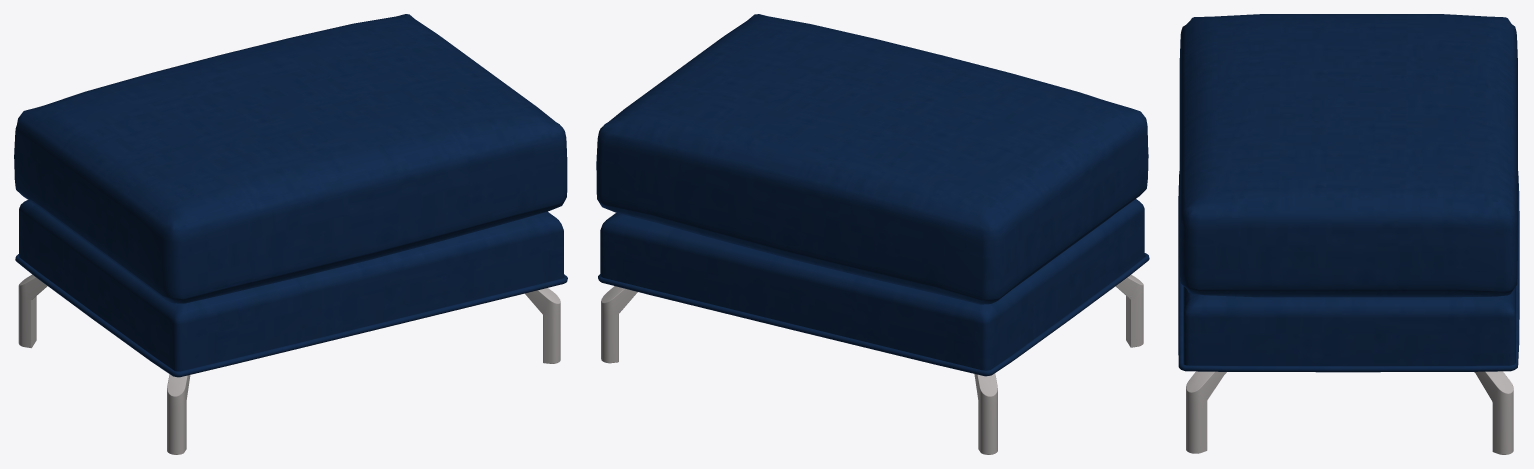
Rendered from B073ZRS8VF.glb.
3 views of the same model, side by side, from view 1: azimuth 30°, elevation 25°; view 2: azimuth 150°, elevation 25°; view 3: azimuth 270°, elevation 25° (orthographic). The views are drawn at different scales.
Visible parts, largest first — view 1: RootNode; view 2: RootNode; view 3: RootNode.
Part boxes in pixels (x1,y1,x2,y2): RootNode: (14, 14, 567, 454); RootNode: (596, 14, 1149, 454); RootNode: (1178, 14, 1519, 454).
Bounding box in the file's own units: 0.8351 × 0.4979 × 0.5872.
Materials: 1 (1 with a texture image).
